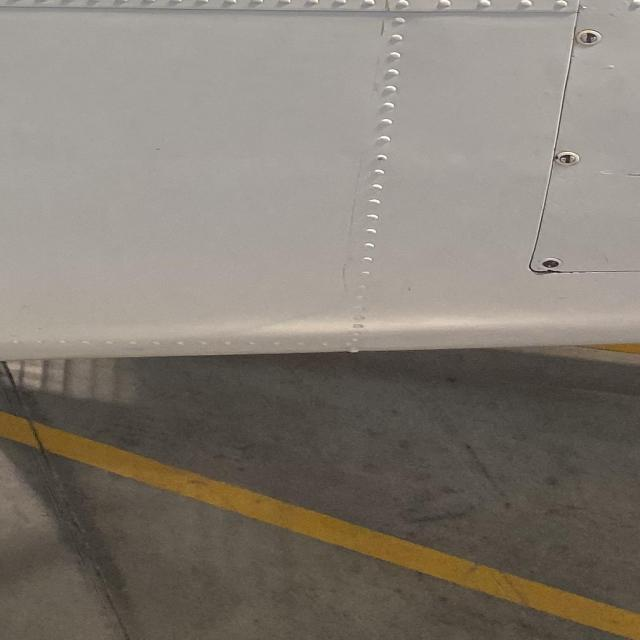Paint-off: (627, 169, 640, 183)
